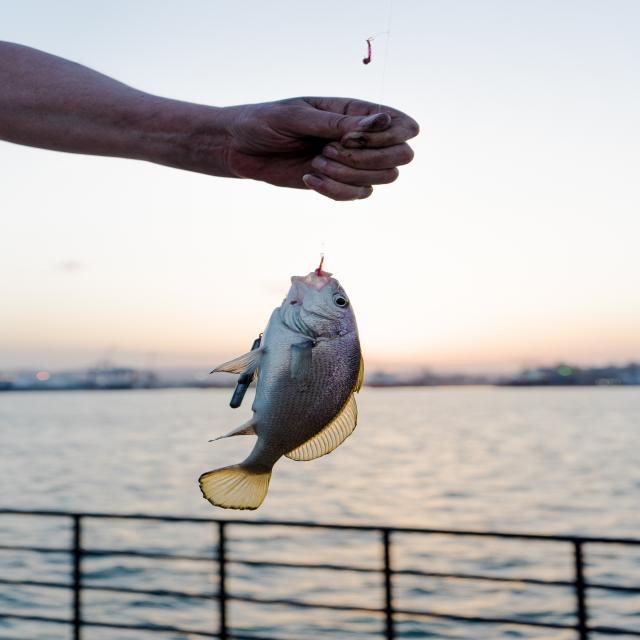Fish: (198, 257, 378, 523)
